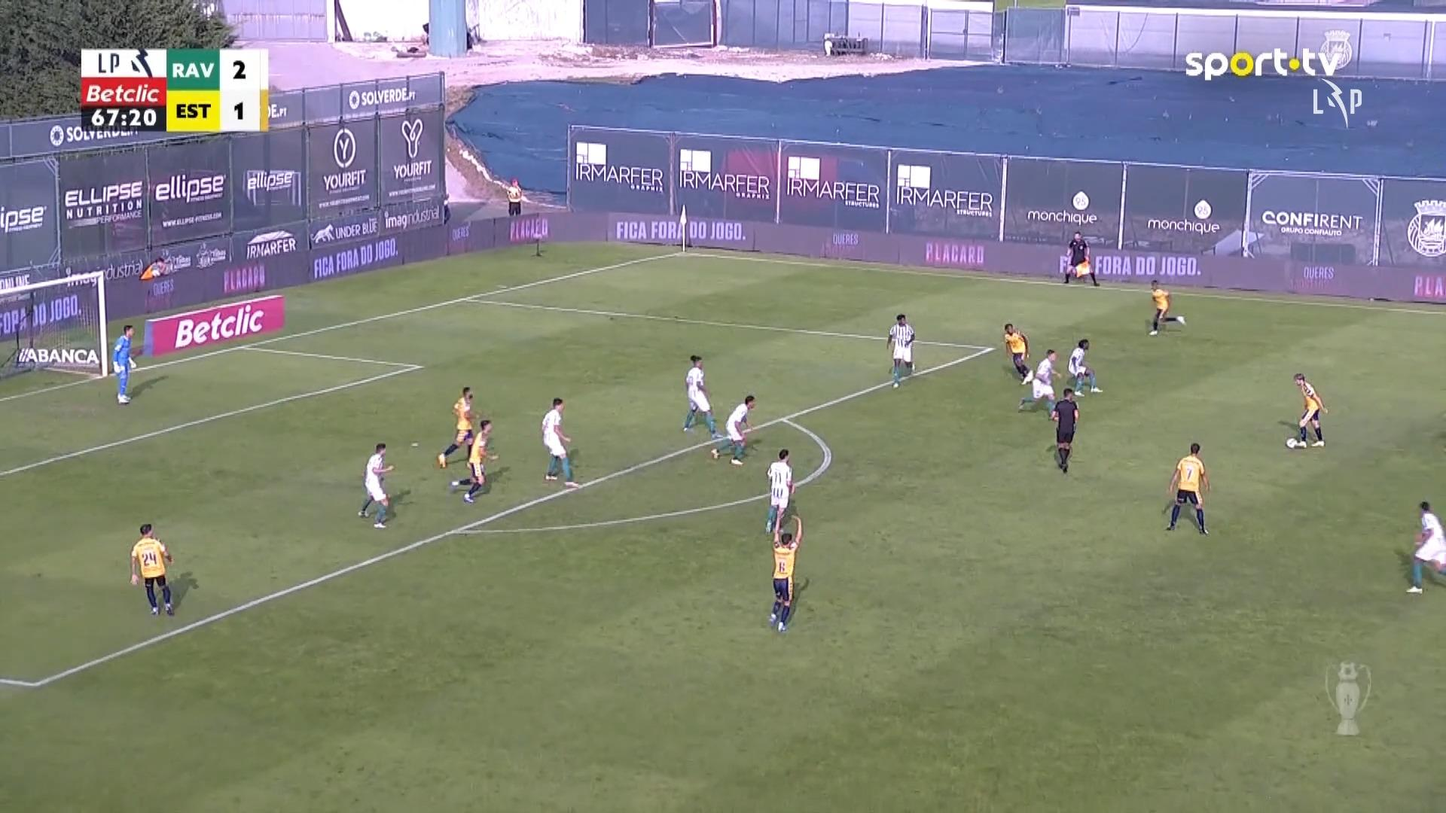ball: (1286, 437, 1297, 448)
goalkeeper: (111, 324, 137, 404)
player: (129, 522, 175, 616), (767, 513, 803, 632), (1164, 442, 1210, 534), (449, 419, 499, 503), (540, 397, 580, 489), (1405, 500, 1444, 592), (436, 385, 477, 469), (709, 394, 756, 465), (357, 442, 395, 528), (681, 354, 720, 437), (1017, 348, 1060, 418), (764, 448, 794, 540), (1292, 371, 1327, 447), (1147, 278, 1186, 336), (886, 313, 915, 388), (1066, 337, 1102, 395), (1003, 322, 1032, 384)
referee: (1048, 386, 1079, 473), (1061, 230, 1098, 285)
